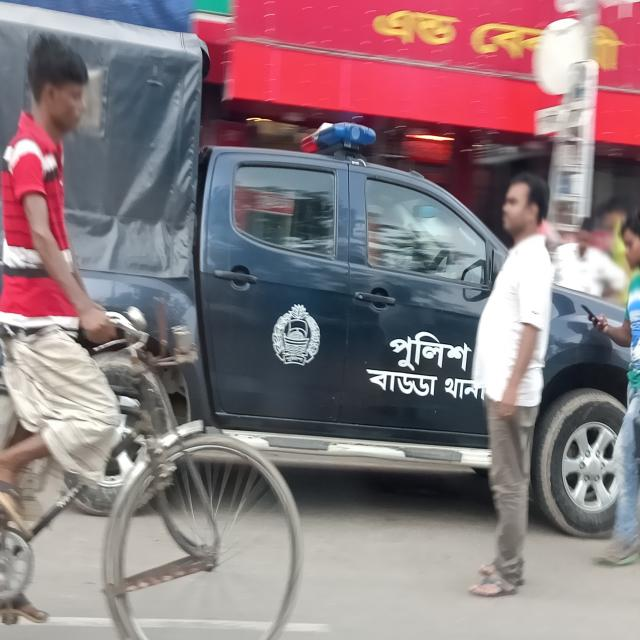pickup-van: (0, 0, 640, 513)
